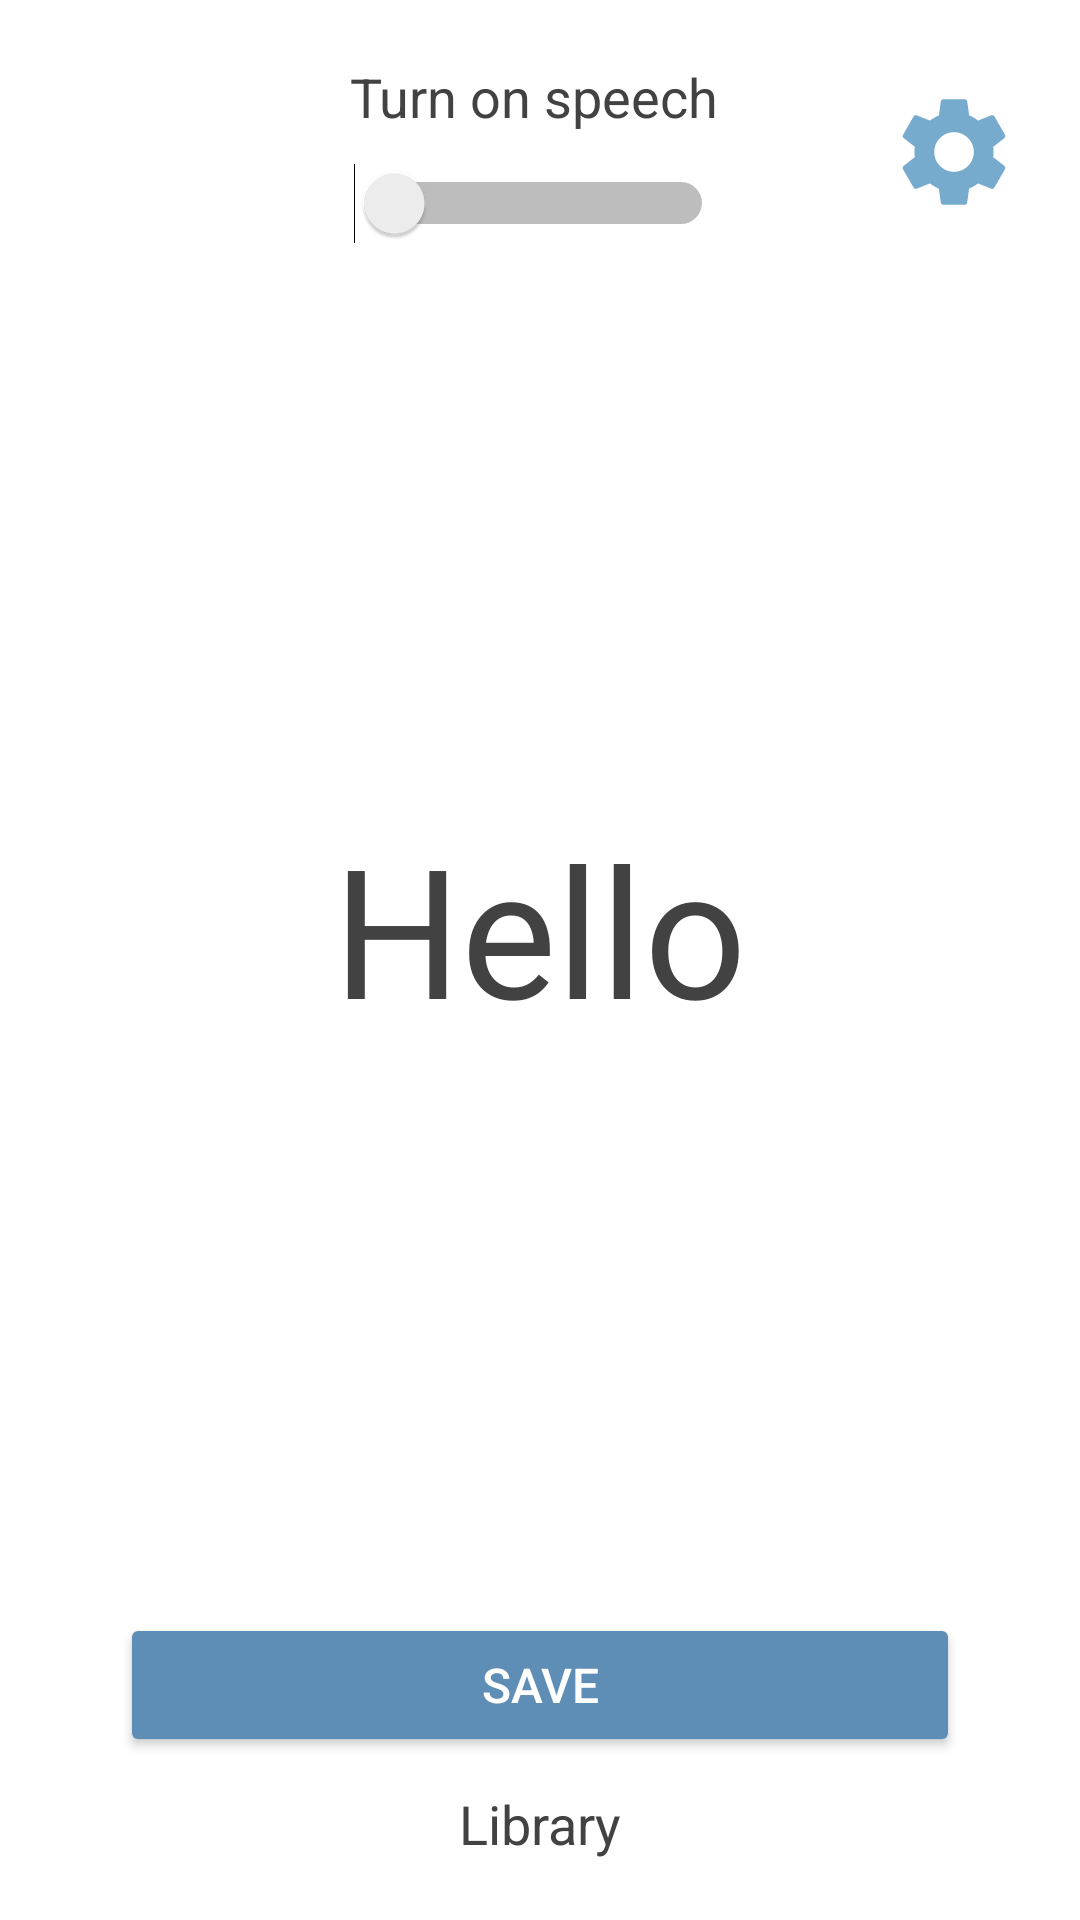

Icon bounding boxes for this 1080 x 1920 phone screenshot, format bbox=(x1, y1, x2, y2):
settings: bbox=(902, 99, 1006, 205)
